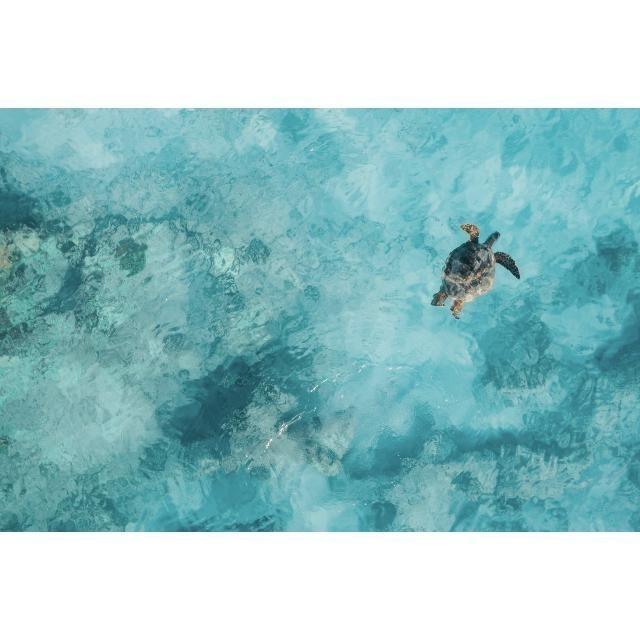turtle: (431, 220, 520, 320)
